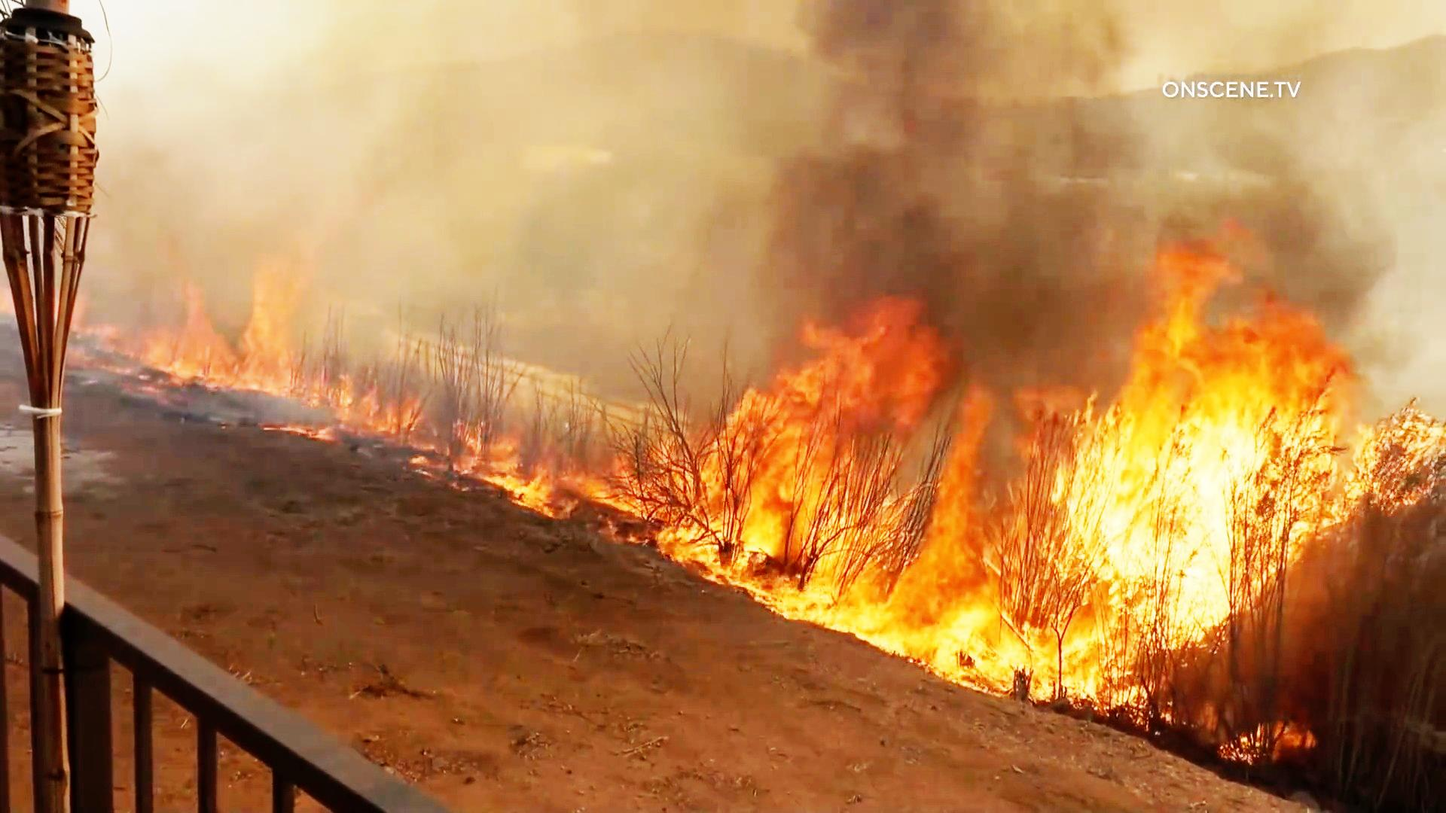fire: (1017, 251, 1367, 642), (645, 305, 961, 630), (100, 207, 337, 390)
smoke: (776, 17, 1117, 293), (787, 116, 1394, 266)
